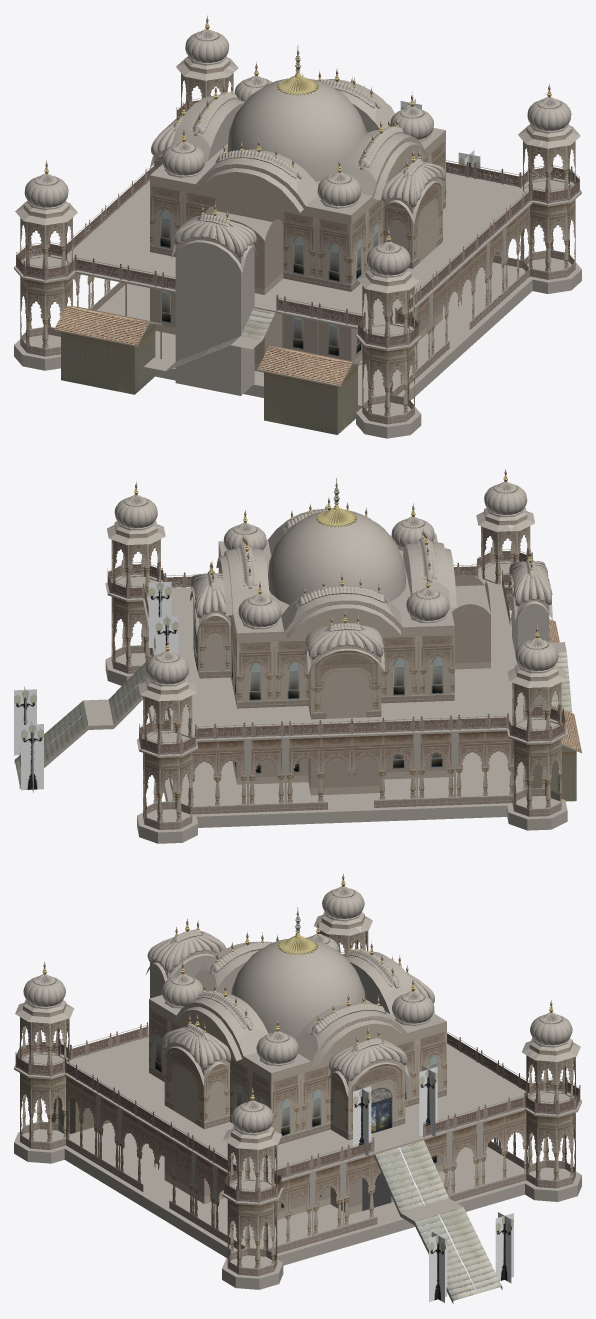
The model's file is krishna.dae.
3 renders of one model, top to bottom at view 1: azimuth 30°, elevation 25°; view 2: azimuth 150°, elevation 25°; view 3: azimuth 270°, elevation 25°, orthographic. The views are drawn at different scales.
Visible parts, largest first — view 1: group_0 (×7), tower (×8), Group_22 (×4), Group_20 (×2), group_15 (×5), crown1 (×7), group_21 (×3), Group_9 (×2), Group_2 (×2), group_4 (×2), Group_19, Group_7 (×3) (+5 smaller); view 2: group_0 (×9), tower (×9), Group_9 (×3), Group_2 (×2), group_15 (×6), crown1 (×8), group_9, Lamp (×4), group_3, Group_7 (×5), Group_19 (×2), group_21 (+4 smaller); view 3: group_0 (×11), tower (×7), Group_2 (×4), group_15 (×5), Group_9 (×6), crown1 (×7), Lamp (×4), group_9 (×2), group_2 (×2), Group_7 (×3), group_5, group_21 (+5 smaller).
Boxes of the visible parts, <box> form: group_0 (×7): <box>14,78,581,438</box>; tower (×8): <box>15,73,579,424</box>; Group_22 (×4): <box>54,305,361,434</box>; Group_20 (×2): <box>175,242,275,395</box>; group_15 (×5): <box>175,79,428,200</box>; crown1 (×7): <box>24,32,571,275</box>; group_21 (×3): <box>196,149,318,212</box>; Group_9 (×2): <box>383,182,442,268</box>; Group_2 (×2): <box>392,206,529,395</box>; group_4 (×2): <box>75,254,365,325</box>; Group_19: <box>254,224,283,372</box>; Group_7 (×3): <box>173,168,428,257</box>; group_0 (×9): <box>14,511,567,843</box>; tower (×9): <box>107,524,565,829</box>; Group_9 (×3): <box>199,616,381,795</box>; Group_2 (×2): <box>190,731,512,814</box>; group_15 (×6): <box>216,508,402,638</box>; crown1 (×8): <box>114,485,558,684</box>; group_9: <box>285,734,417,810</box>; Lamp (×4): <box>14,578,178,793</box>; group_3: <box>195,713,508,739</box>; Group_7 (×5): <box>194,568,552,659</box>; Group_19 (×2): <box>451,585,490,669</box>; group_21: <box>403,537,450,604</box>; group_0 (×11): <box>14,939,581,1303</box>; tower (×7): <box>15,930,580,1276</box>; Group_2 (×4): <box>66,1076,526,1253</box>; group_15 (×5): <box>176,949,414,1061</box>; Group_9 (×6): <box>164,1048,405,1214</box>; crown1 (×7): <box>23,889,572,1133</box>; Lamp (×4): <box>353,1066,513,1302</box>; group_9 (×2): <box>119,1110,449,1233</box>; group_2 (×2): <box>274,1092,525,1178</box>; Group_7 (×3): <box>156,938,377,1081</box>; group_5: <box>65,1058,236,1172</box>; group_21: <box>194,941,272,993</box>.
Bounding box in the file's own units: 1599 × 1599 × 900.
29 materials, 20 textured.
